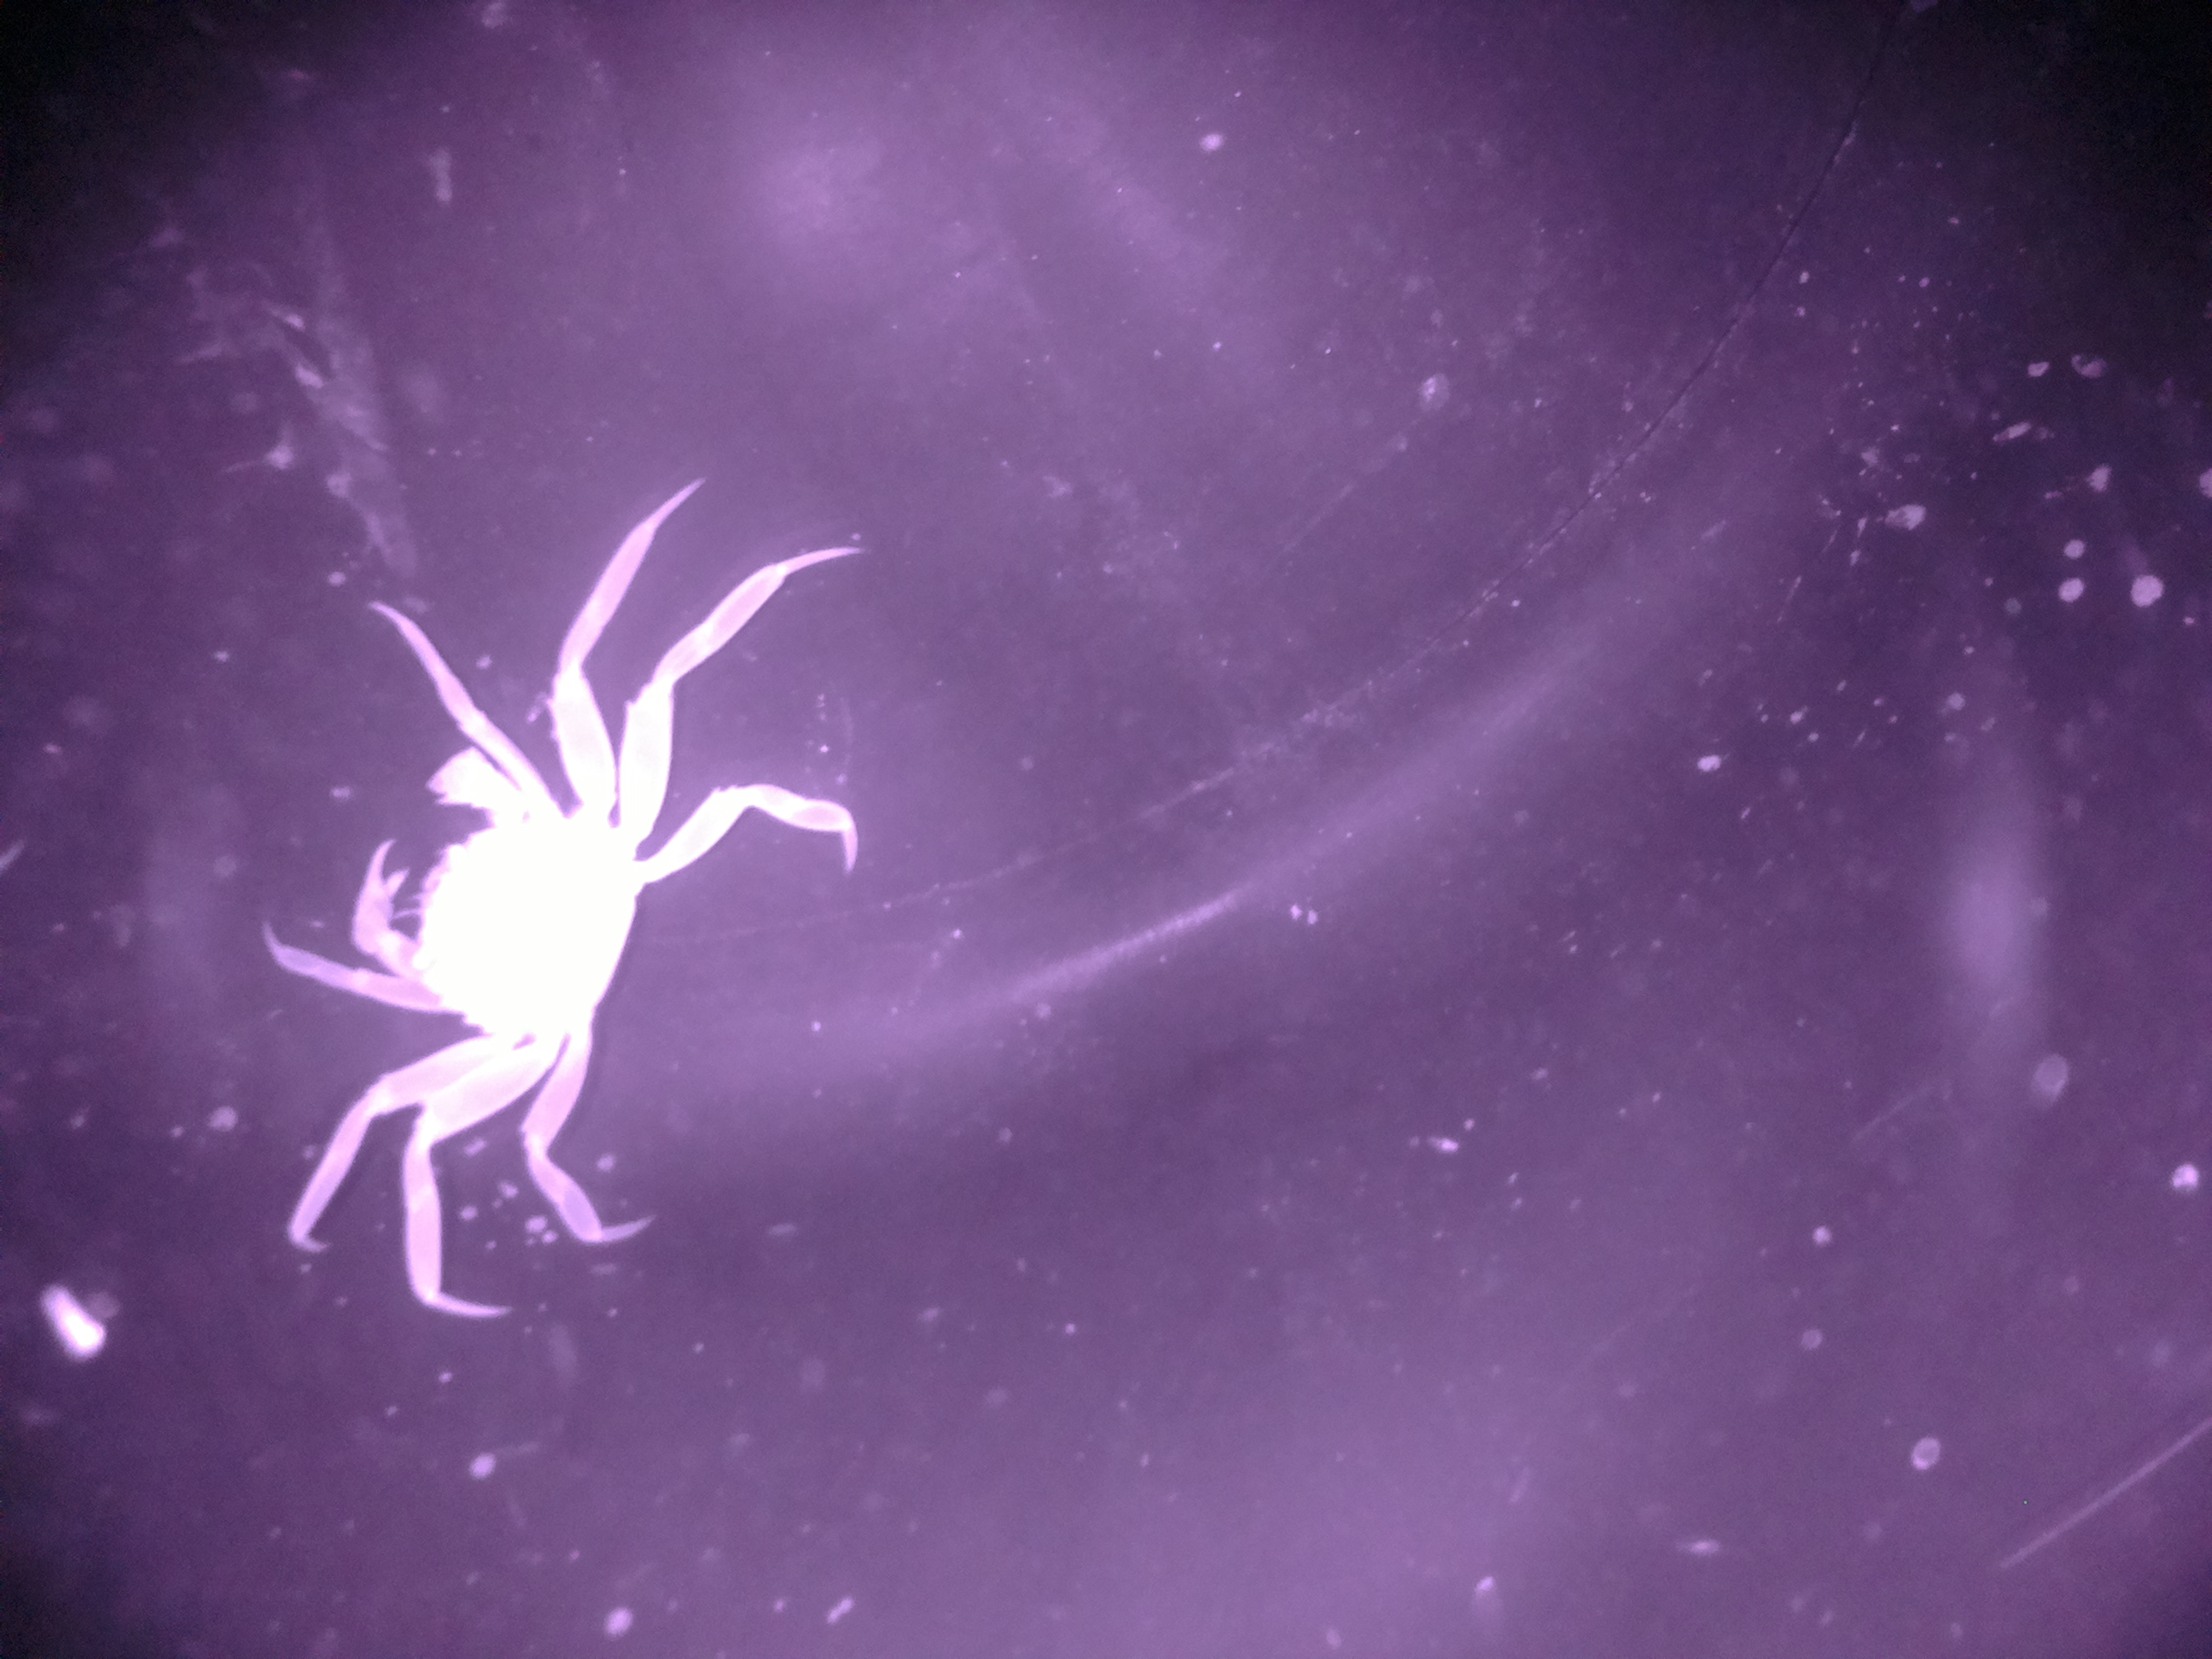Crab: (254, 664, 763, 1176)
